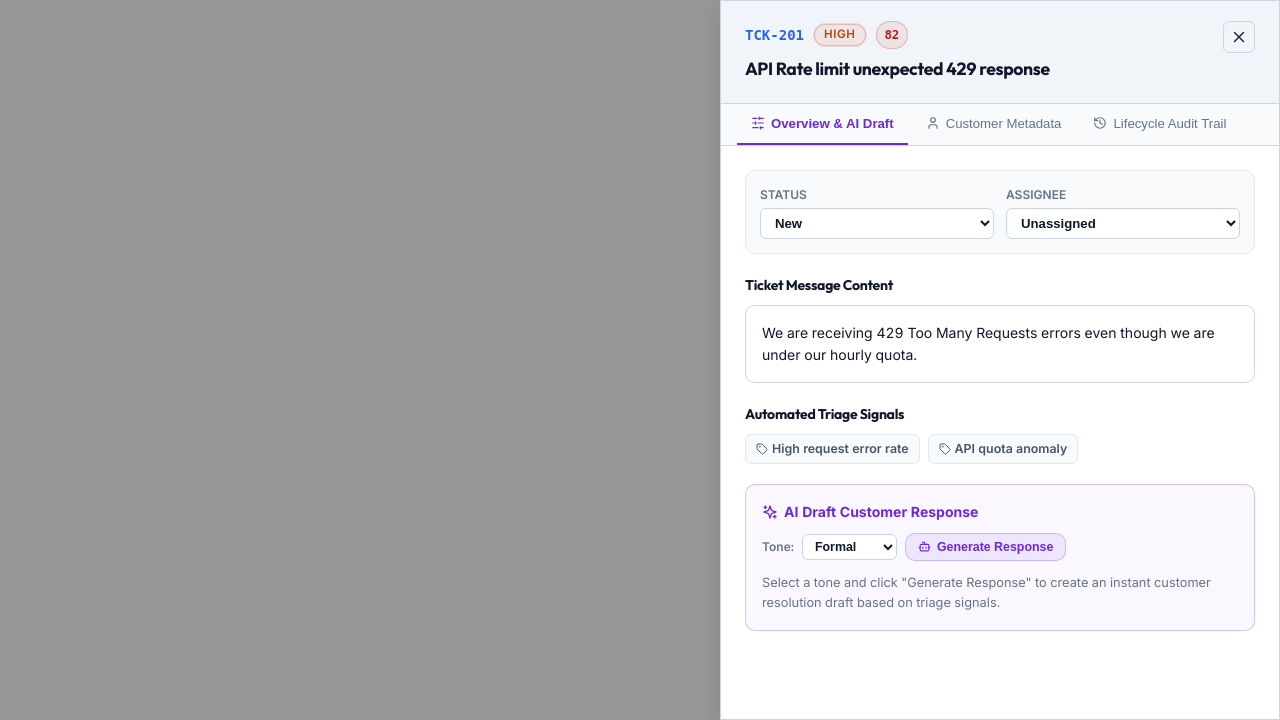
Test: TicketDetailDrawer Component - Multi-Tab Navigation & AI Tone Controls (SPEC 005) › Multi-Tab Navigation State (SPEC 005) › switches to Audit Trail tab and displays lifecycle timeline
Click the tab with test id "drawer-tab-audit" at (1160, 124), box top-left (1080, 104), bottom-right (1240, 145)
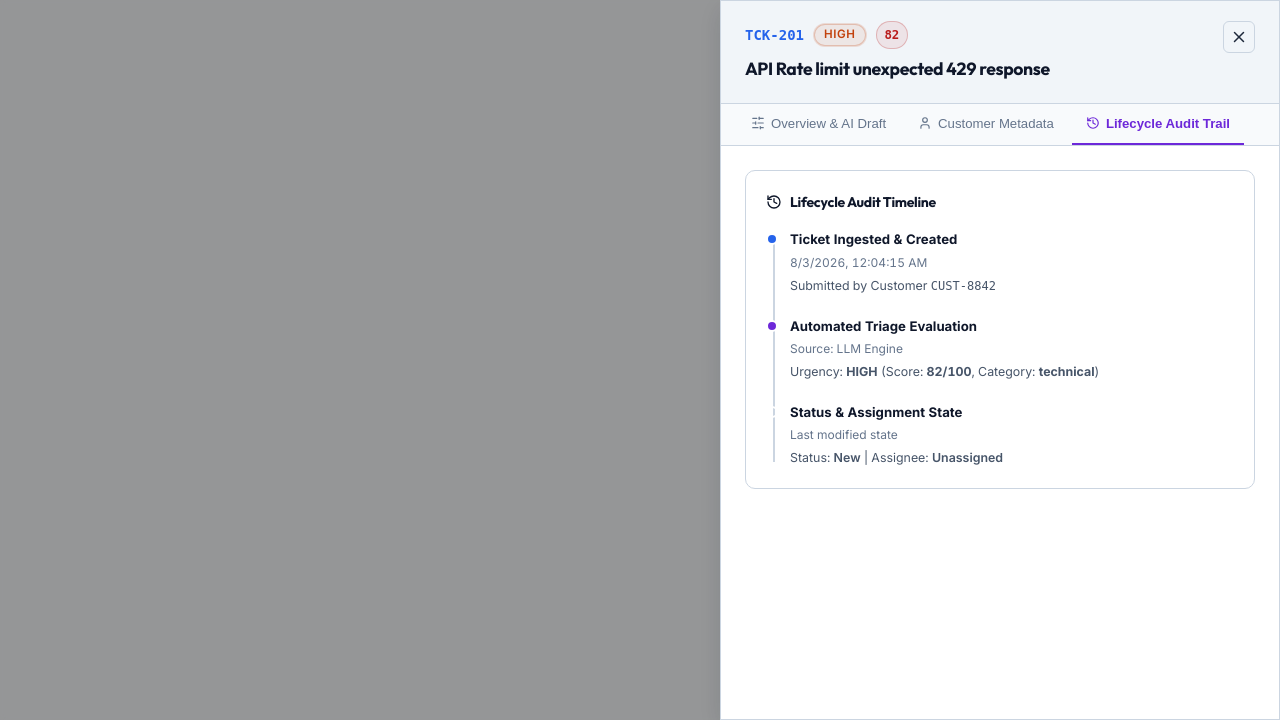
Result: the element with test id "audit-timeline" is shown at top-left (745, 170), bottom-right (1255, 489)
